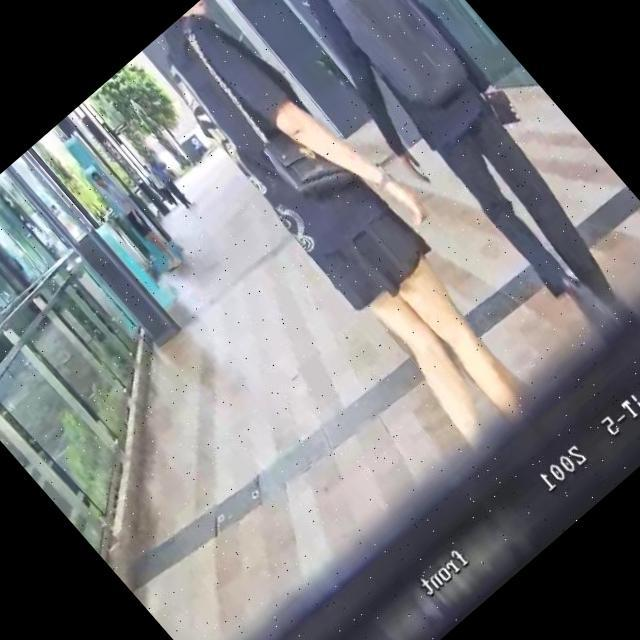person: (133, 0, 572, 456), (235, 0, 640, 351), (86, 165, 184, 275), (142, 150, 196, 212)
